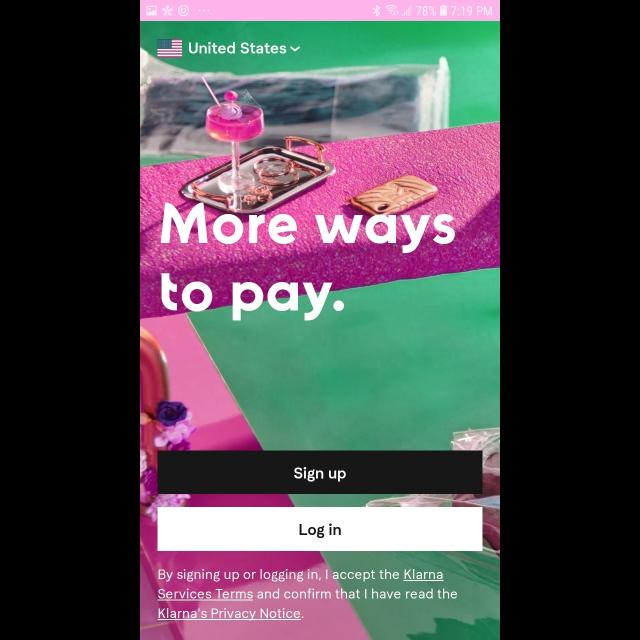backgroundimage: (140, 22, 500, 640)
icon: (291, 47, 301, 53)
image: (158, 38, 182, 58)
text: (161, 202, 455, 322), (158, 568, 458, 620), (189, 42, 287, 54)
textbutton: (158, 450, 482, 494), (158, 507, 482, 551)
uppertaskbar: (140, 1, 500, 22)
